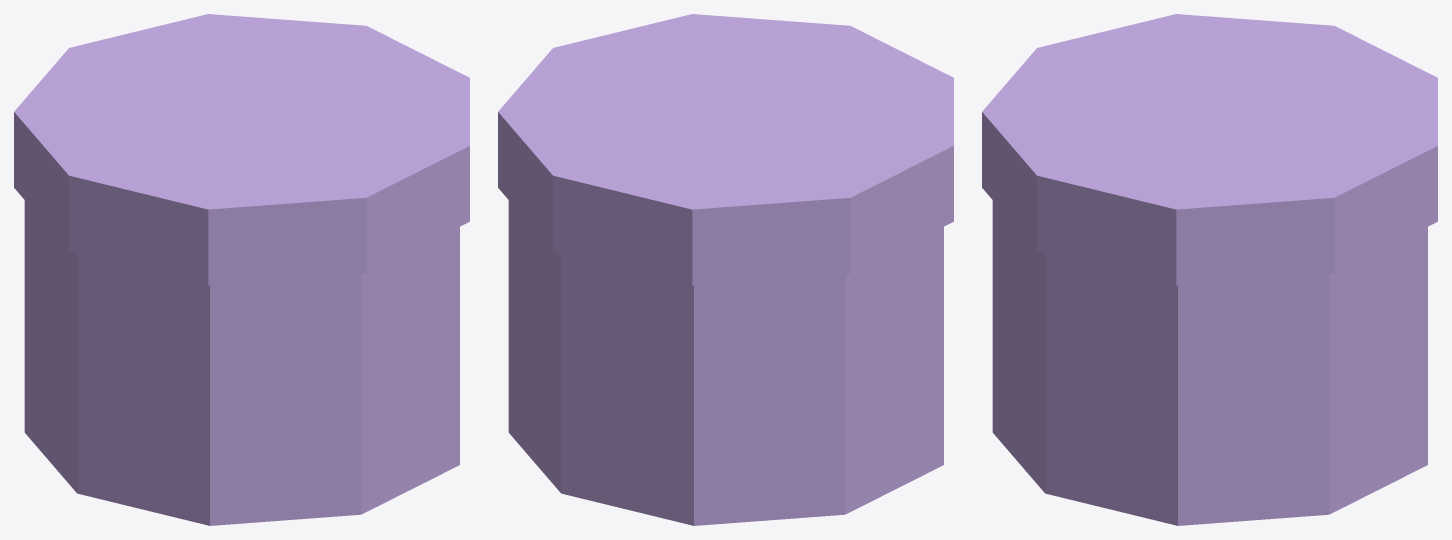
3 views of the same model, side by side, from view 1: azimuth 30°, elevation 25°; view 2: azimuth 150°, elevation 25°; view 3: azimuth 270°, elevation 25° (orthographic).
Parts seen in each view (by area): view 1: Box_4; view 2: Box_4; view 3: Box_4.
Part boxes in pixels (box(x1,y1,x2,y2)): Box_4: box(14, 14, 469, 525); Box_4: box(498, 14, 953, 525); Box_4: box(982, 14, 1437, 525).
Bounding box in the file's own units: 12.83 × 12.64 × 9.81.
